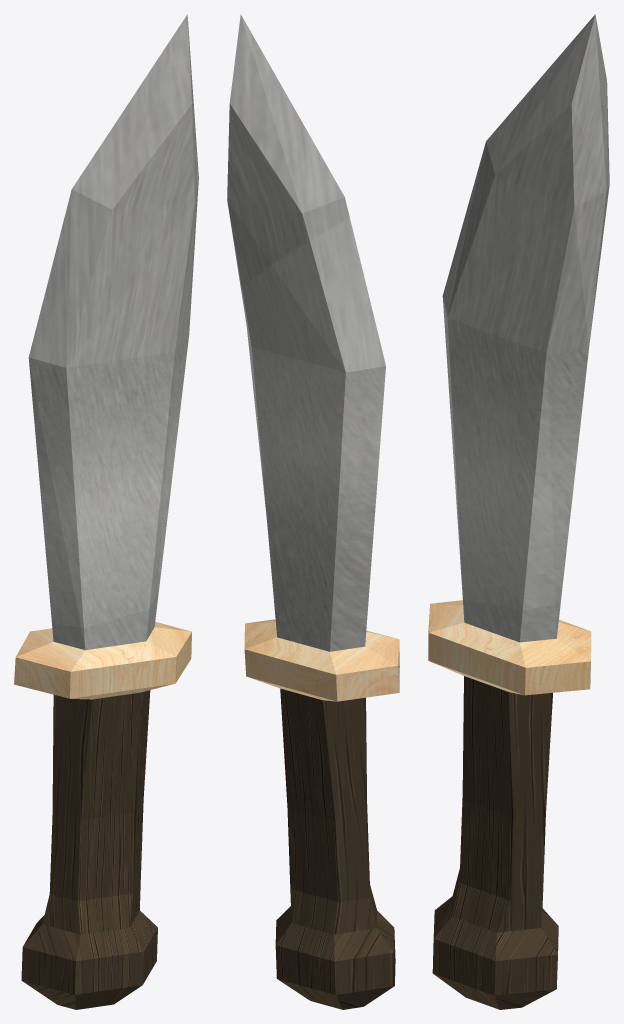
File: dagger1.fbx
3 views of the same model, side by side, from view 1: azimuth 30°, elevation 25°; view 2: azimuth 150°, elevation 25°; view 3: azimuth 330°, elevation 25° (orthographic). The views are drawn at different scales.
Visible parts, largest first — view 1: pPlane7; view 2: pPlane7; view 3: pPlane7.
Boxes of the visible parts, left/top/right/bottom form: pPlane7: left=14, top=14, right=198, bottom=1009; pPlane7: left=227, top=14, right=399, bottom=1009; pPlane7: left=428, top=14, right=609, bottom=1009.
Bounding box in the file's own units: 0.7346 × 3.82 × 0.4214.
3 materials, 3 textured.
